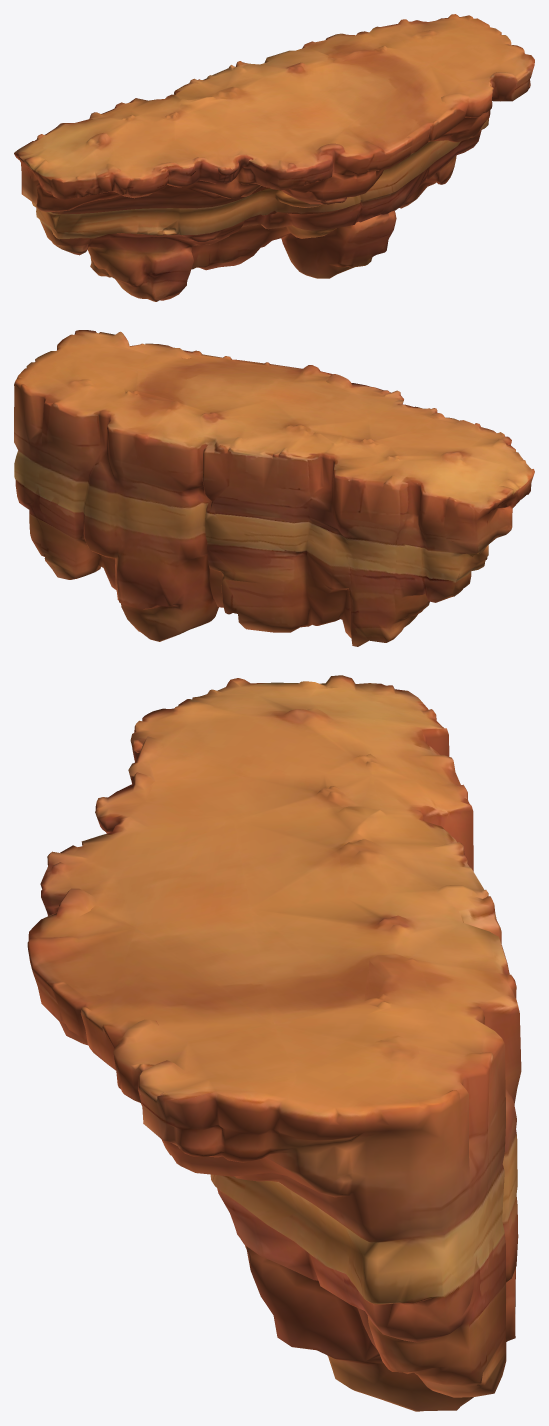
Rendered from SM_Env_DesertCaveCeilingRift.glb.
The picture shows the model from 3 angles, top to bottom: view 1: azimuth 30°, elevation 25°; view 2: azimuth 150°, elevation 25°; view 3: azimuth 270°, elevation 25°; orthographic projection. The views are drawn at different scales.
Visible parts, largest first — view 1: SM_Env_DesertCaveCeilingRift_LOD0; view 2: SM_Env_DesertCaveCeilingRift_LOD0; view 3: SM_Env_DesertCaveCeilingRift_LOD0.
Part boxes in pixels (x1,y1,x2,y2): SM_Env_DesertCaveCeilingRift_LOD0: [14, 14, 534, 301]; SM_Env_DesertCaveCeilingRift_LOD0: [14, 330, 534, 646]; SM_Env_DesertCaveCeilingRift_LOD0: [27, 675, 521, 1411].
Size of what is drawn, in the model's own units: 20.09 by 9 by 9.04.
1 material, 1 textured.
